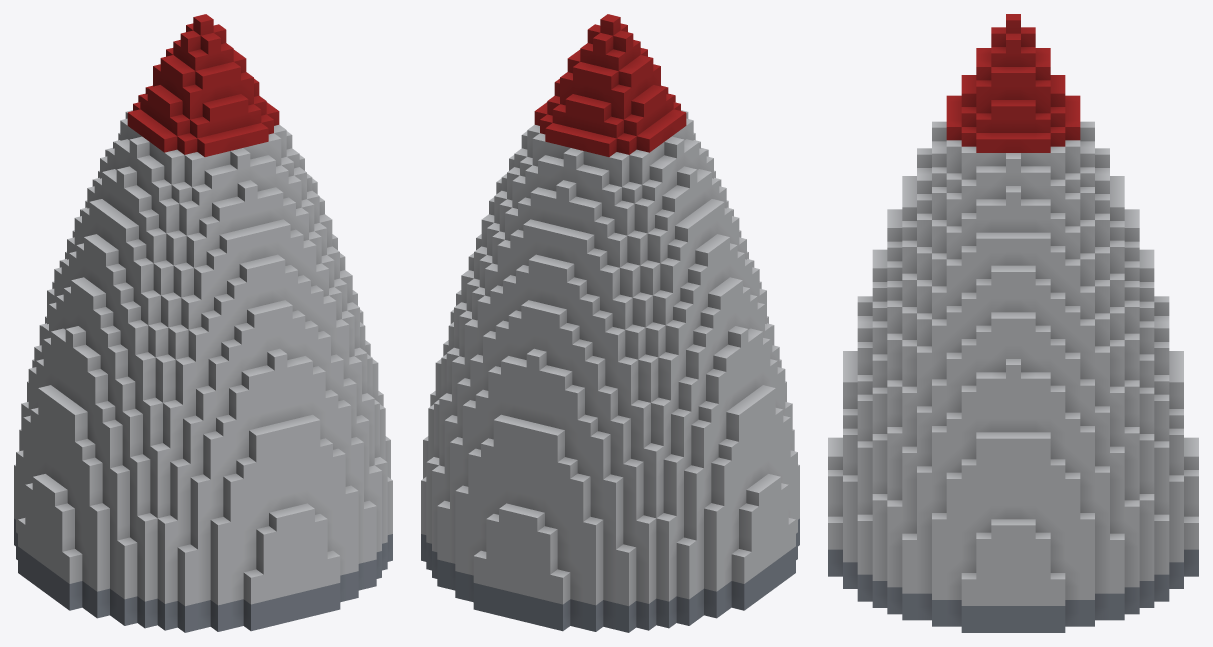
File: nose_cone_s.glb
3 renders of one model, left to right at view 1: azimuth 30°, elevation 25°; view 2: azimuth 150°, elevation 25°; view 3: azimuth 270°, elevation 25°, orthographic.
Visible parts, largest first — view 1: nose_cone_s; view 2: nose_cone_s; view 3: nose_cone_s.
Boxes of the visible parts, x1,y1,x2,y2 form: nose_cone_s: (14, 14, 392, 632); nose_cone_s: (421, 14, 799, 632); nose_cone_s: (828, 14, 1198, 632).
Bounding box in the file's own units: 1.25 × 2 × 1.25.
